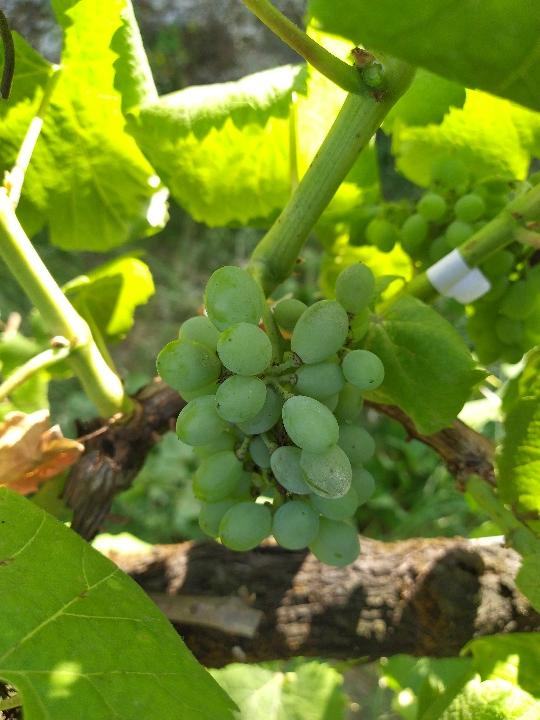grape: (152, 255, 386, 572)
